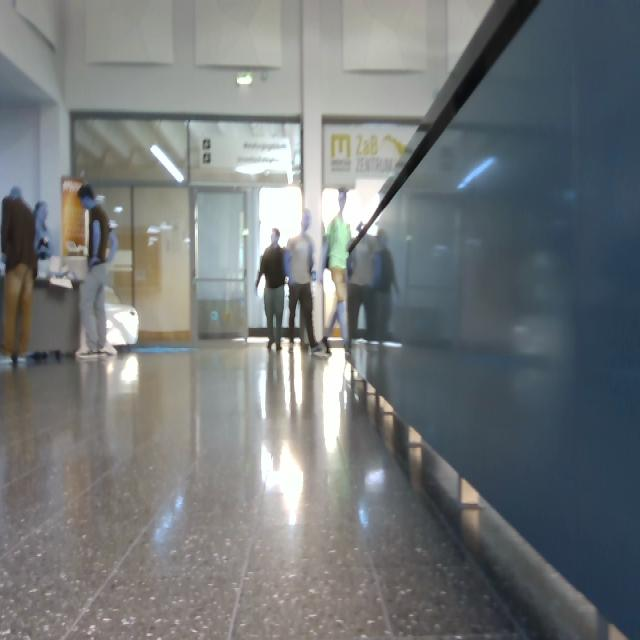door: (133, 185, 191, 341), (194, 189, 248, 340)
light bulb: (150, 144, 185, 184), (457, 156, 496, 190), (236, 72, 253, 85), (160, 222, 173, 232), (147, 225, 160, 234), (148, 237, 158, 246), (114, 207, 123, 215), (183, 237, 191, 244)
person: (76, 184, 119, 357), (1, 186, 39, 364), (286, 209, 331, 357), (321, 191, 357, 355), (255, 228, 288, 352), (347, 223, 378, 343), (371, 228, 401, 342)
staircase: (341, 1, 638, 638)
tiled floor: (2, 339, 531, 639)
